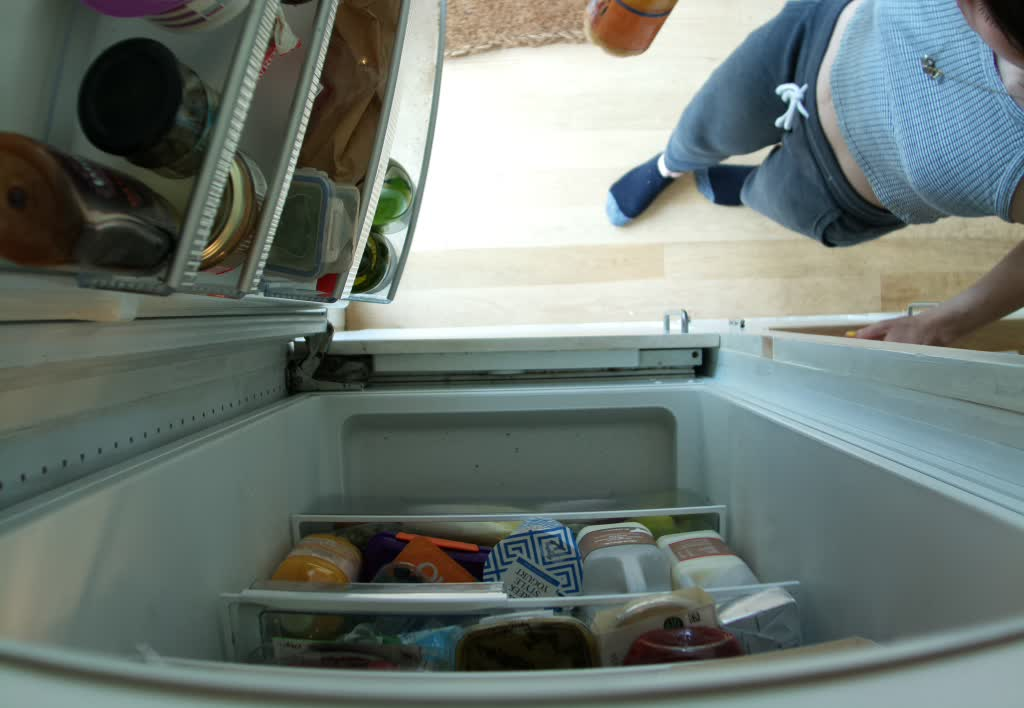juice: (577, 1, 677, 64)
